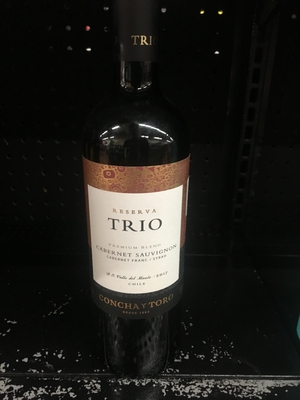trio cabernet sauvignon: (78, 27, 205, 364)
